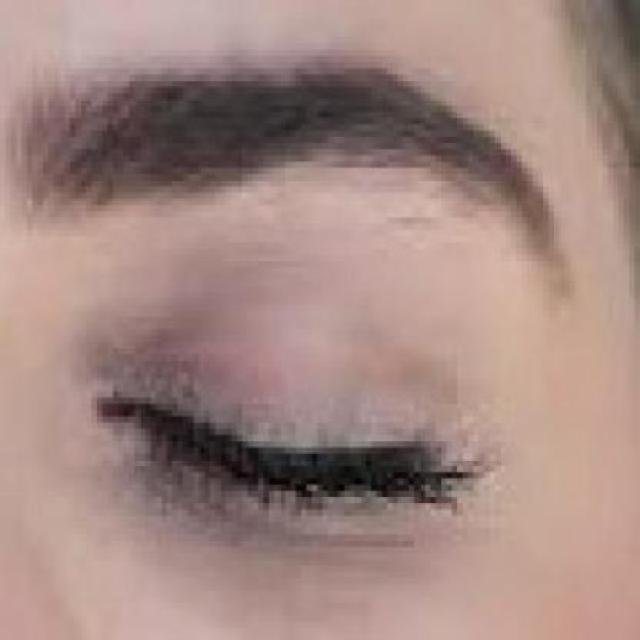drowsy: (97, 342, 441, 570)
